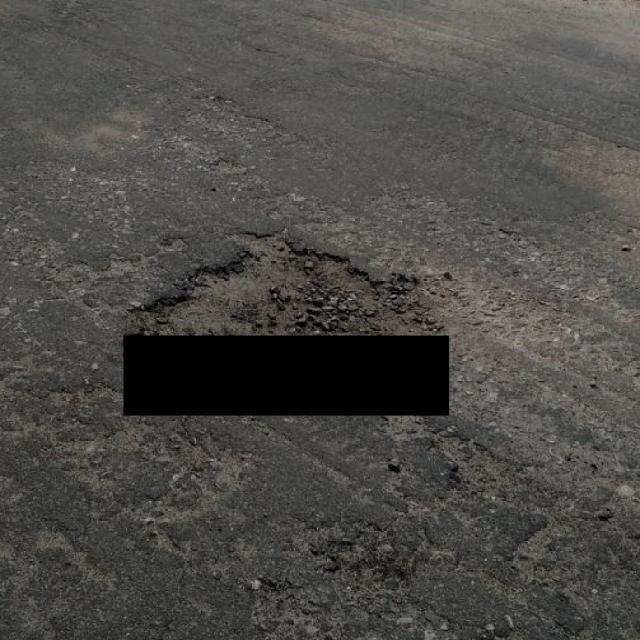road-pothole: (107, 223, 446, 340)
